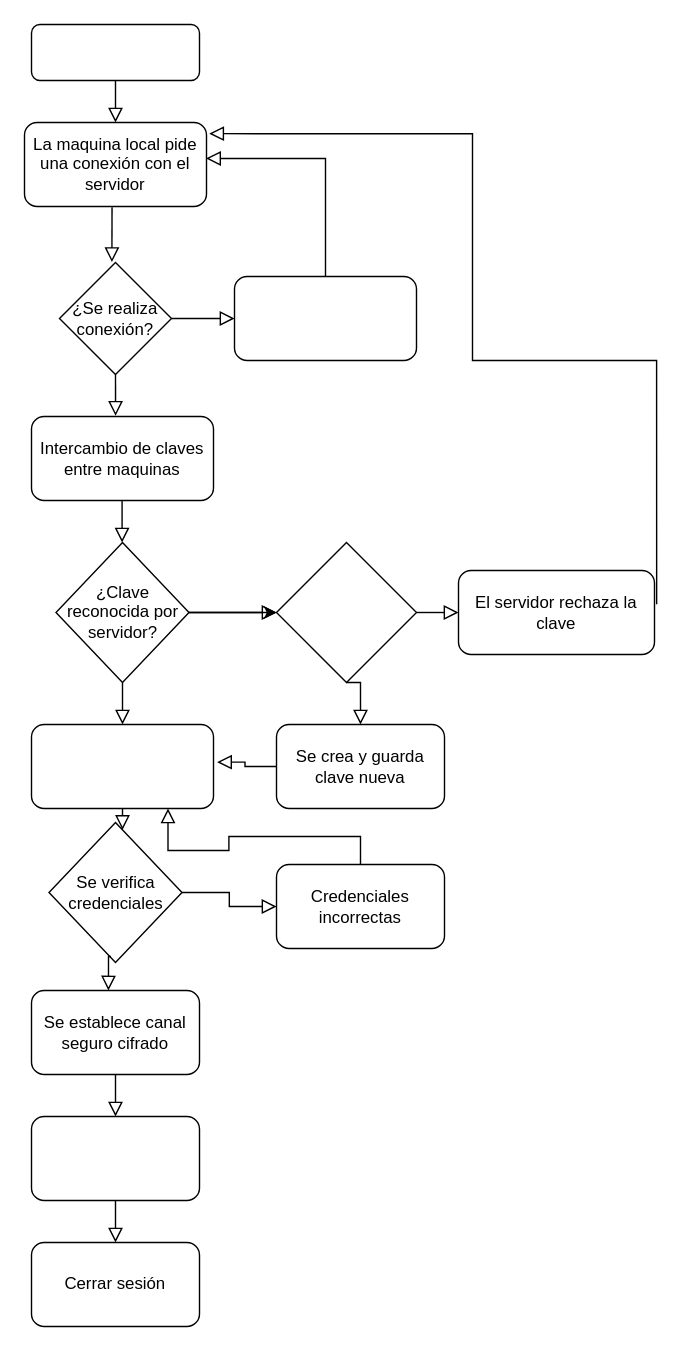
Some shapes in this 696 by 1351 pixel diagram are drawn without their labels. Each missing label, with the centre of its shape:
Inicio de sesión: (115,51)
No se realizó conexión: (324,317)
No se reconoció la clave: (345,611)
Se digitan credenciales (usuario y contraseña): (122,765)
Uso de túneles, comandos, SFTP, etc.: (115,1157)
